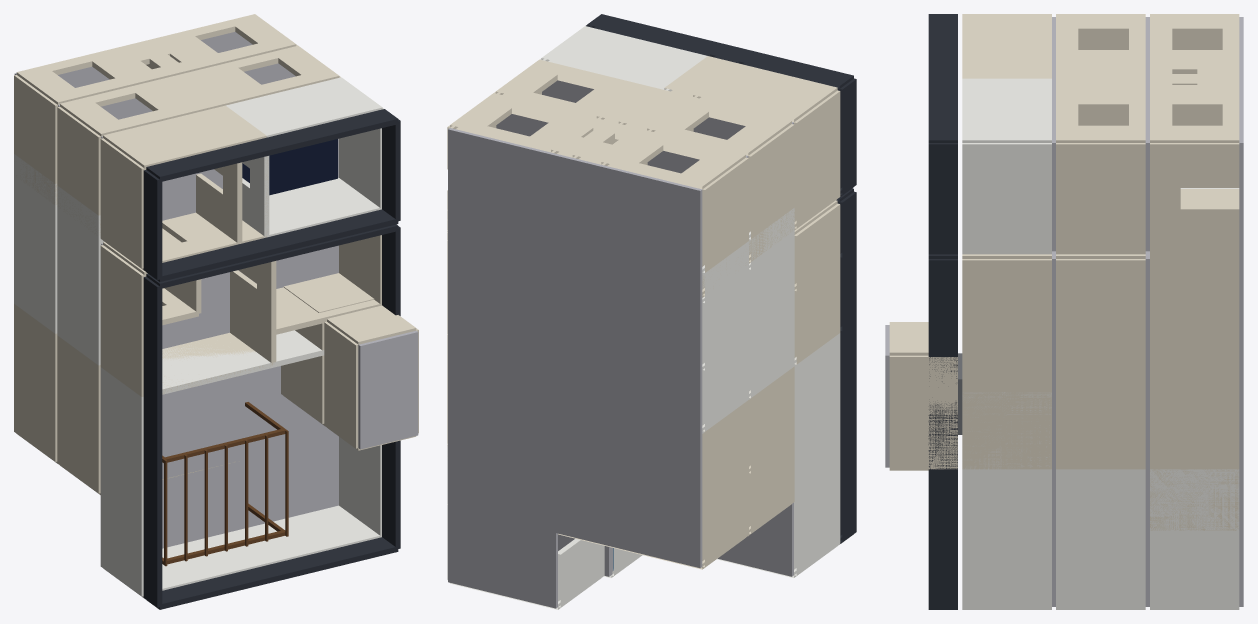
Rendered from 10MARLA_NEOCLASSICAL_35x65_3d.obj.
3 renders of one model, left to right at view 1: azimuth 30°, elevation 25°; view 2: azimuth 150°, elevation 25°; view 3: azimuth 270°, elevation 25°, orthographic. The views are drawn at different scales.
Bounding box in the file's own units: 10.9 × 18.52 × 12.8.
